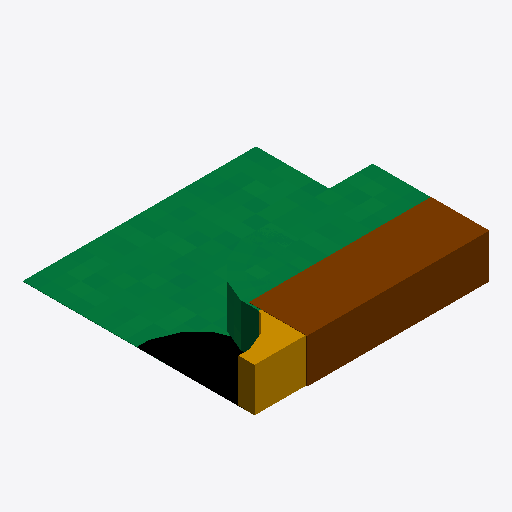
Isometric view (azimuth 45°, elevation 35.3°) of a Minecraft model made of 19 cuboids, textured from the same repository.
Visible parts, largest first — element 19, element 13, element 7, element 14, element 11, element 3, element 5, element 8, element 12, element 9, element 1, element 4 (+1 smaller).
Part boxes in pixels (x1,y1,x2,y2): element 19: (23, 147, 328, 365); element 13: (249, 197, 488, 385); element 7: (245, 164, 429, 270); element 14: (238, 326, 305, 414); element 11: (227, 276, 274, 349); element 3: (181, 332, 214, 367); element 5: (189, 347, 243, 408); element 8: (245, 249, 301, 286); element 12: (241, 284, 270, 351); element 9: (227, 240, 274, 265); element 1: (138, 340, 206, 380); element 4: (204, 333, 239, 372).
Bounding box in the file's own units: 16 × 3.02 × 16.